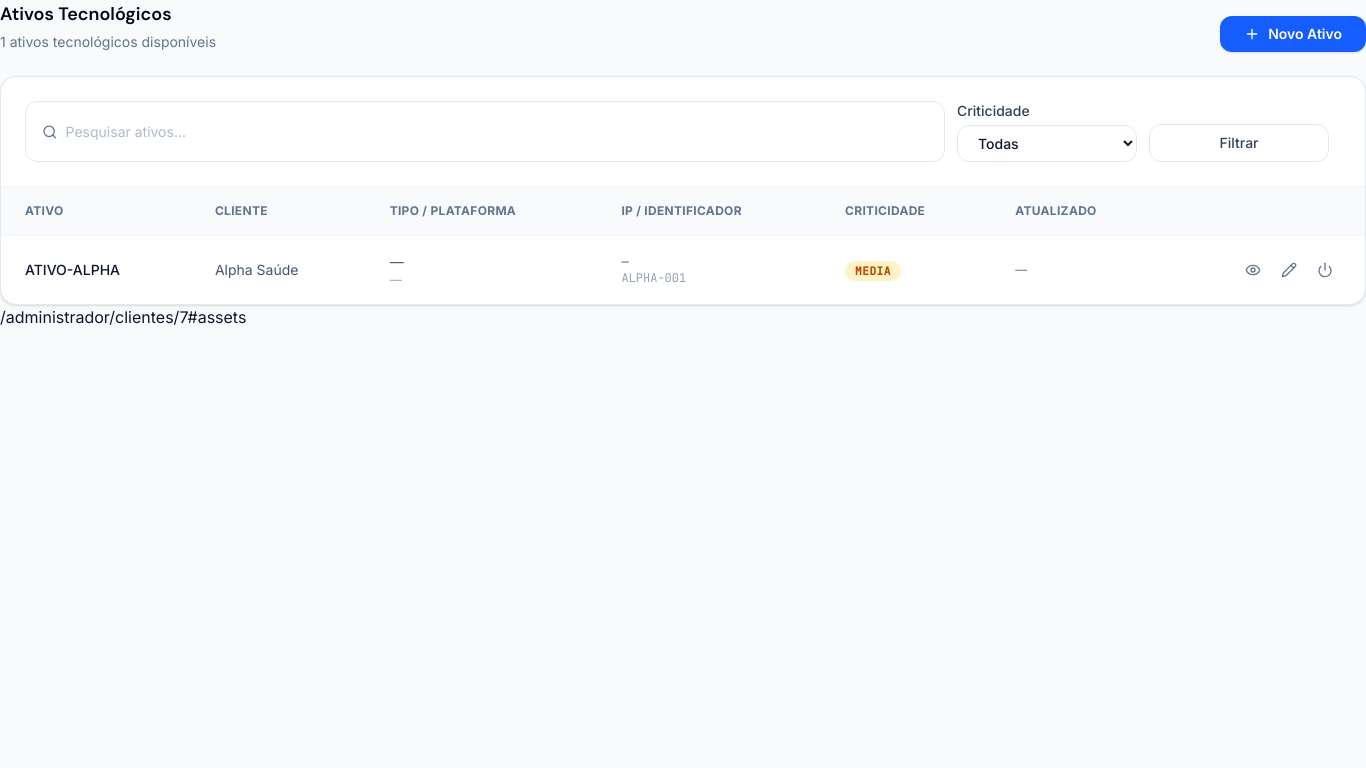
Scenario: AssetsWorkspace para Cliente › preserva o cliente e o perfil ao voltar no contexto admin
Click the button named "Ver detalhe de ATIVO-ALPHA": (1253, 270) [1237, 254, 1269, 286]
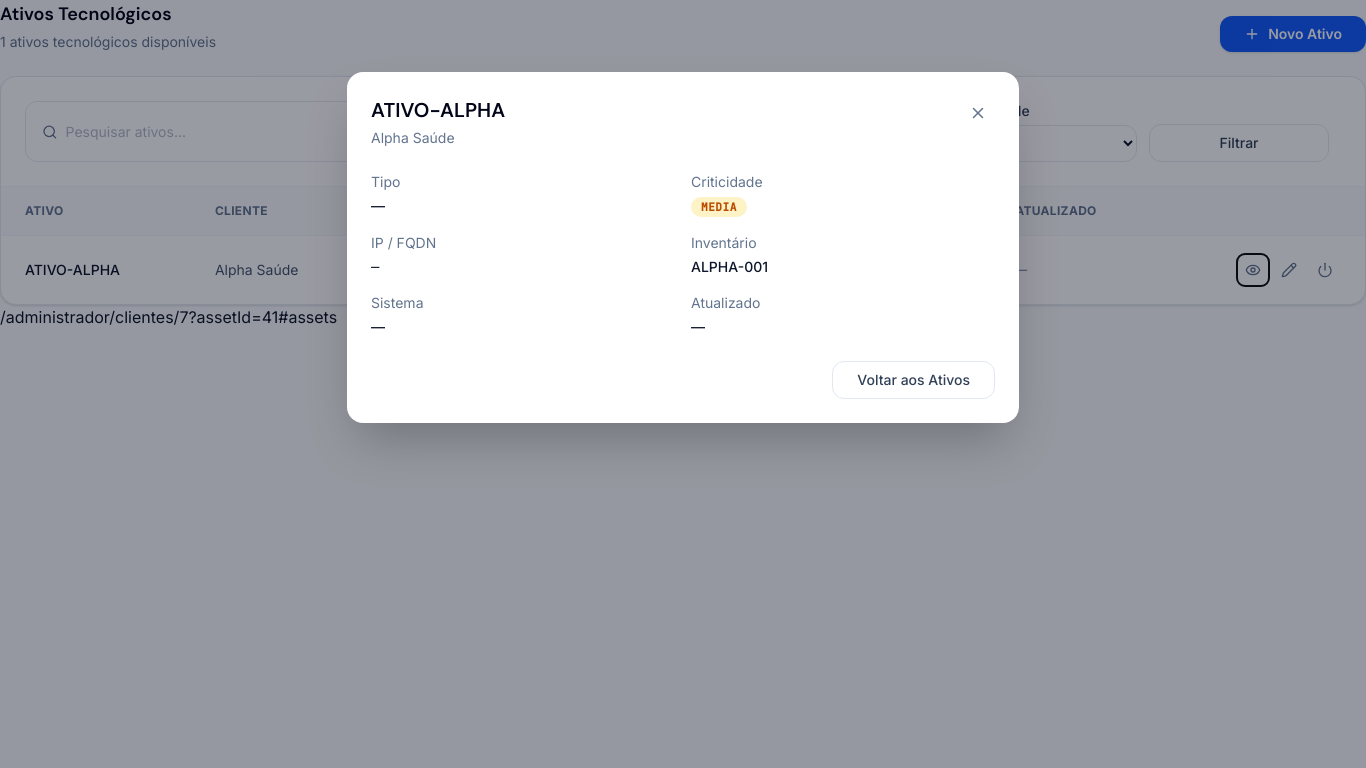
Now the dialog named "Detalhe do ativo" shows "ATIVO-ALPHA", box [371, 97, 505, 123]
Now the text with test id "location" reads "/administrador/clientes/7?assetId=41#assets", box [0, 307, 337, 327]
Click the button "Voltar aos Ativos": (914, 380) [832, 361, 995, 399]
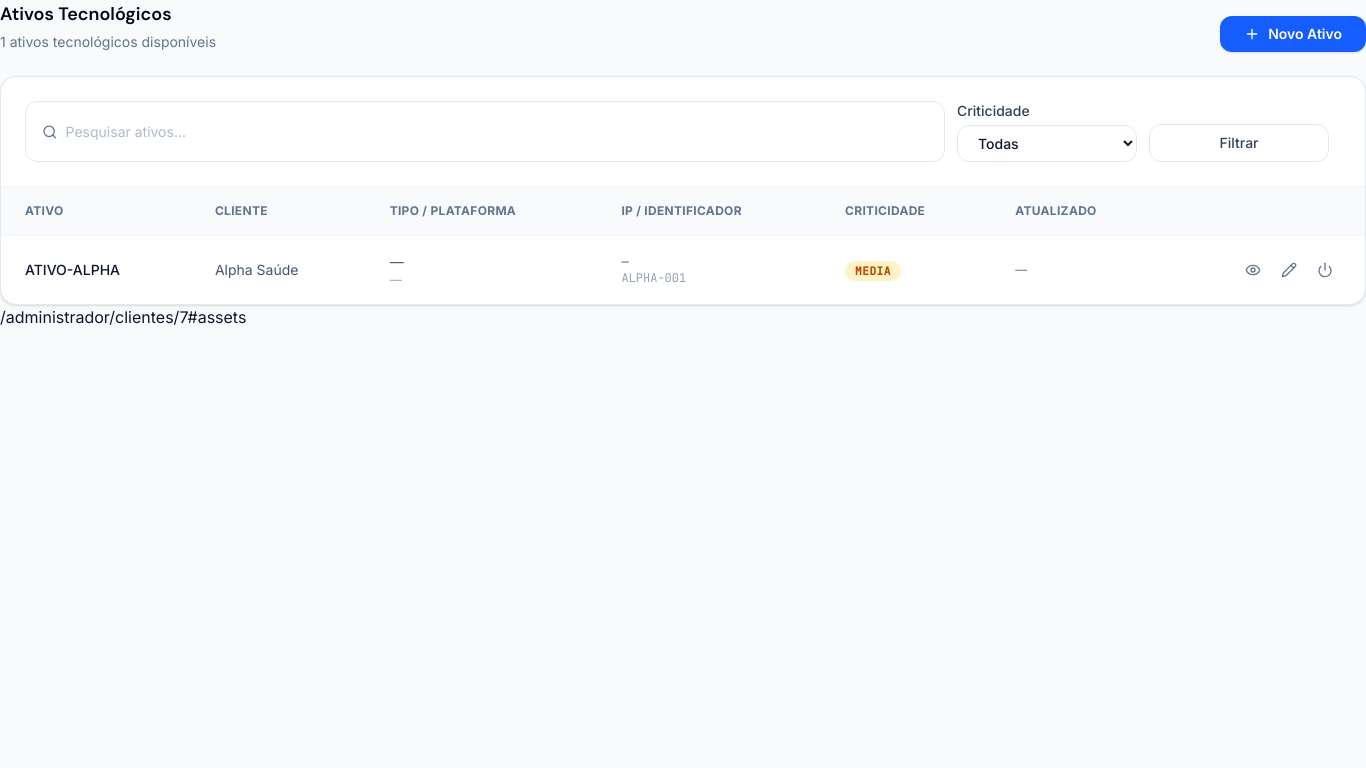
Expected: the text "ATIVO-ALPHA" is shown, [1, 236, 191, 304]
Now the text with test id "location" reads "/administrador/clientes/7#assets", box [0, 307, 246, 327]
